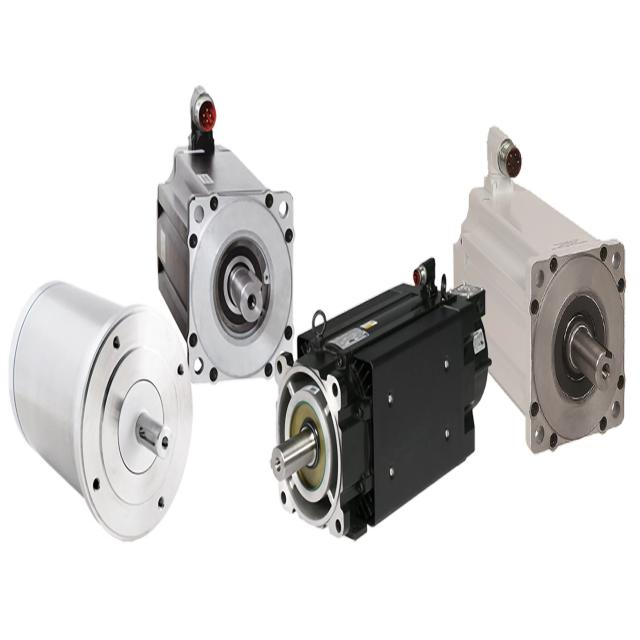servomotor: (429, 105, 640, 437), (155, 94, 301, 387), (23, 261, 199, 500), (276, 323, 472, 523)
